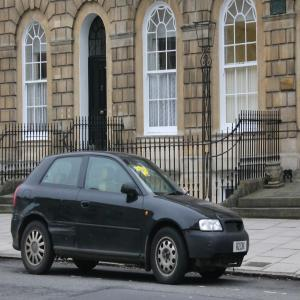Vehicle-registration-plate: (234, 242, 248, 253)
